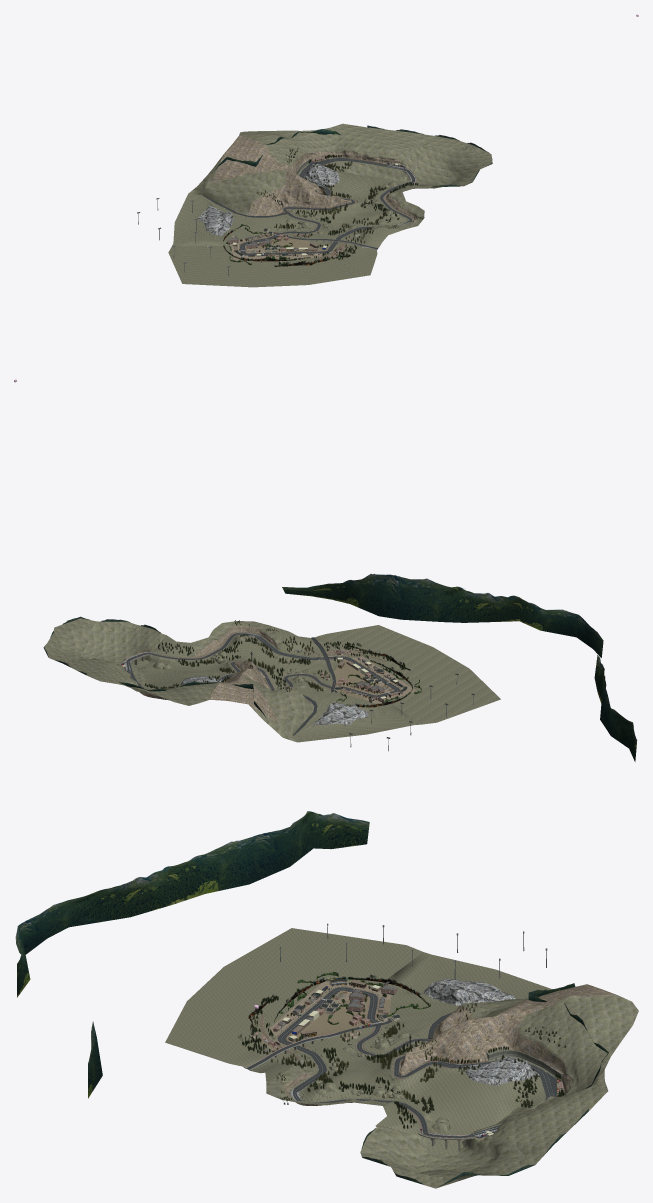
The model's file is gt_racing_2_-_mount_rainier-v1.glb.
The picture shows the model from 3 angles, top to bottom: view 1: azimuth 30°, elevation 25°; view 2: azimuth 150°, elevation 25°; view 3: azimuth 270°, elevation 25°; orthographic projection. The views are drawn at different scales.
Parts seen in each view (by area): view 1: env_rock02_grass_0, env.010_rock02_rock03_0, alphas.001_alpha_gl_0, road_road_PIVOT.001_road_0, env.007_rock04_soil_0, env.001_pavement_0, buildings_all_PIVOT.002_Material__8867.008_0, buildings_all_PIVOT.009_Material__8867.003_0, mountain_PIVOT_mountain_background_0, alphas.002_alpha_gl.001_0; view 2: env_rock02_grass_0, mountain_PIVOT_mountain_background_0, alphas.001_alpha_gl_0, env.010_rock02_rock03_0, road_road_PIVOT.001_road_0, env.007_rock04_soil_0, env.001_pavement_0, buildings_all_PIVOT.002_Material__8867.008_0, buildings_all_PIVOT.009_Material__8867.003_0; view 3: env_rock02_grass_0, mountain_PIVOT_mountain_background_0, env.010_rock02_rock03_0, alphas.001_alpha_gl_0, road_road_PIVOT.001_road_0, env.007_rock04_soil_0, env.001_pavement_0, buildings_all_PIVOT.002_Material__8867.008_0, buildings_all_PIVOT.009_Material__8867.003_0, alphas.002_alpha_gl.001_0, env.002_pavement02_0, env.006_road_clean.001_0.
Part boxes in pixels (x1,y1,x2,y2): env_rock02_grass_0: (168, 123, 492, 287); env.010_rock02_rock03_0: (212, 135, 417, 221); alphas.001_alpha_gl_0: (226, 147, 424, 266); road_road_PIVOT.001_road_0: (240, 158, 415, 255); env.007_rock04_soil_0: (198, 164, 339, 235); env.001_pavement_0: (239, 159, 405, 256); buildings_all_PIVOT.002_Material__8867.008_0: (227, 159, 399, 257); buildings_all_PIVOT.009_Material__8867.003_0: (137, 157, 416, 276); mountain_PIVOT_mountain_background_0: (214, 125, 492, 196); alphas.002_alpha_gl.001_0: (223, 225, 350, 266); env_rock02_grass_0: (44, 618, 500, 742); mountain_PIVOT_mountain_background_0: (43, 573, 637, 761); alphas.001_alpha_gl_0: (144, 620, 421, 703); env.010_rock02_rock03_0: (124, 626, 313, 723); road_road_PIVOT.001_road_0: (124, 633, 400, 697); env.007_rock04_soil_0: (180, 676, 368, 726); env.001_pavement_0: (119, 650, 400, 699); buildings_all_PIVOT.002_Material__8867.008_0: (122, 645, 407, 703); buildings_all_PIVOT.009_Material__8867.003_0: (120, 632, 474, 751); env_rock02_grass_0: (165, 928, 638, 1188); mountain_PIVOT_mountain_background_0: (15, 811, 608, 1186); env.010_rock02_rock03_0: (284, 984, 617, 1130); alphas.001_alpha_gl_0: (238, 971, 566, 1130); road_road_PIVOT.001_road_0: (277, 987, 556, 1137); env.007_rock04_soil_0: (423, 979, 539, 1085); env.001_pavement_0: (259, 986, 560, 1139); buildings_all_PIVOT.002_Material__8867.008_0: (253, 978, 563, 1135); buildings_all_PIVOT.009_Material__8867.003_0: (245, 923, 557, 1138); alphas.002_alpha_gl.001_0: (245, 975, 429, 1046); env.002_pavement02_0: (269, 977, 391, 1035); env.006_road_clean.001_0: (246, 1003, 559, 1138).
Bounding box in the file's own units: 2444 × 730 × 1400.
Materials: 34 (33 with a texture image).
